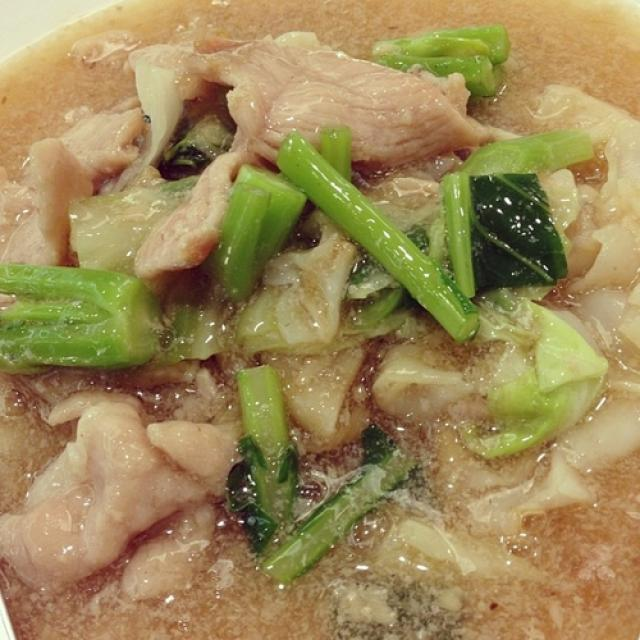面条主食: (9, 8, 634, 636)
